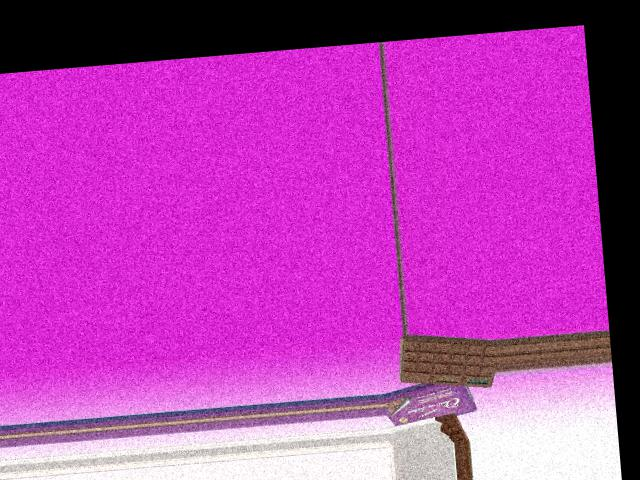chocolate: (397, 327, 493, 396)
